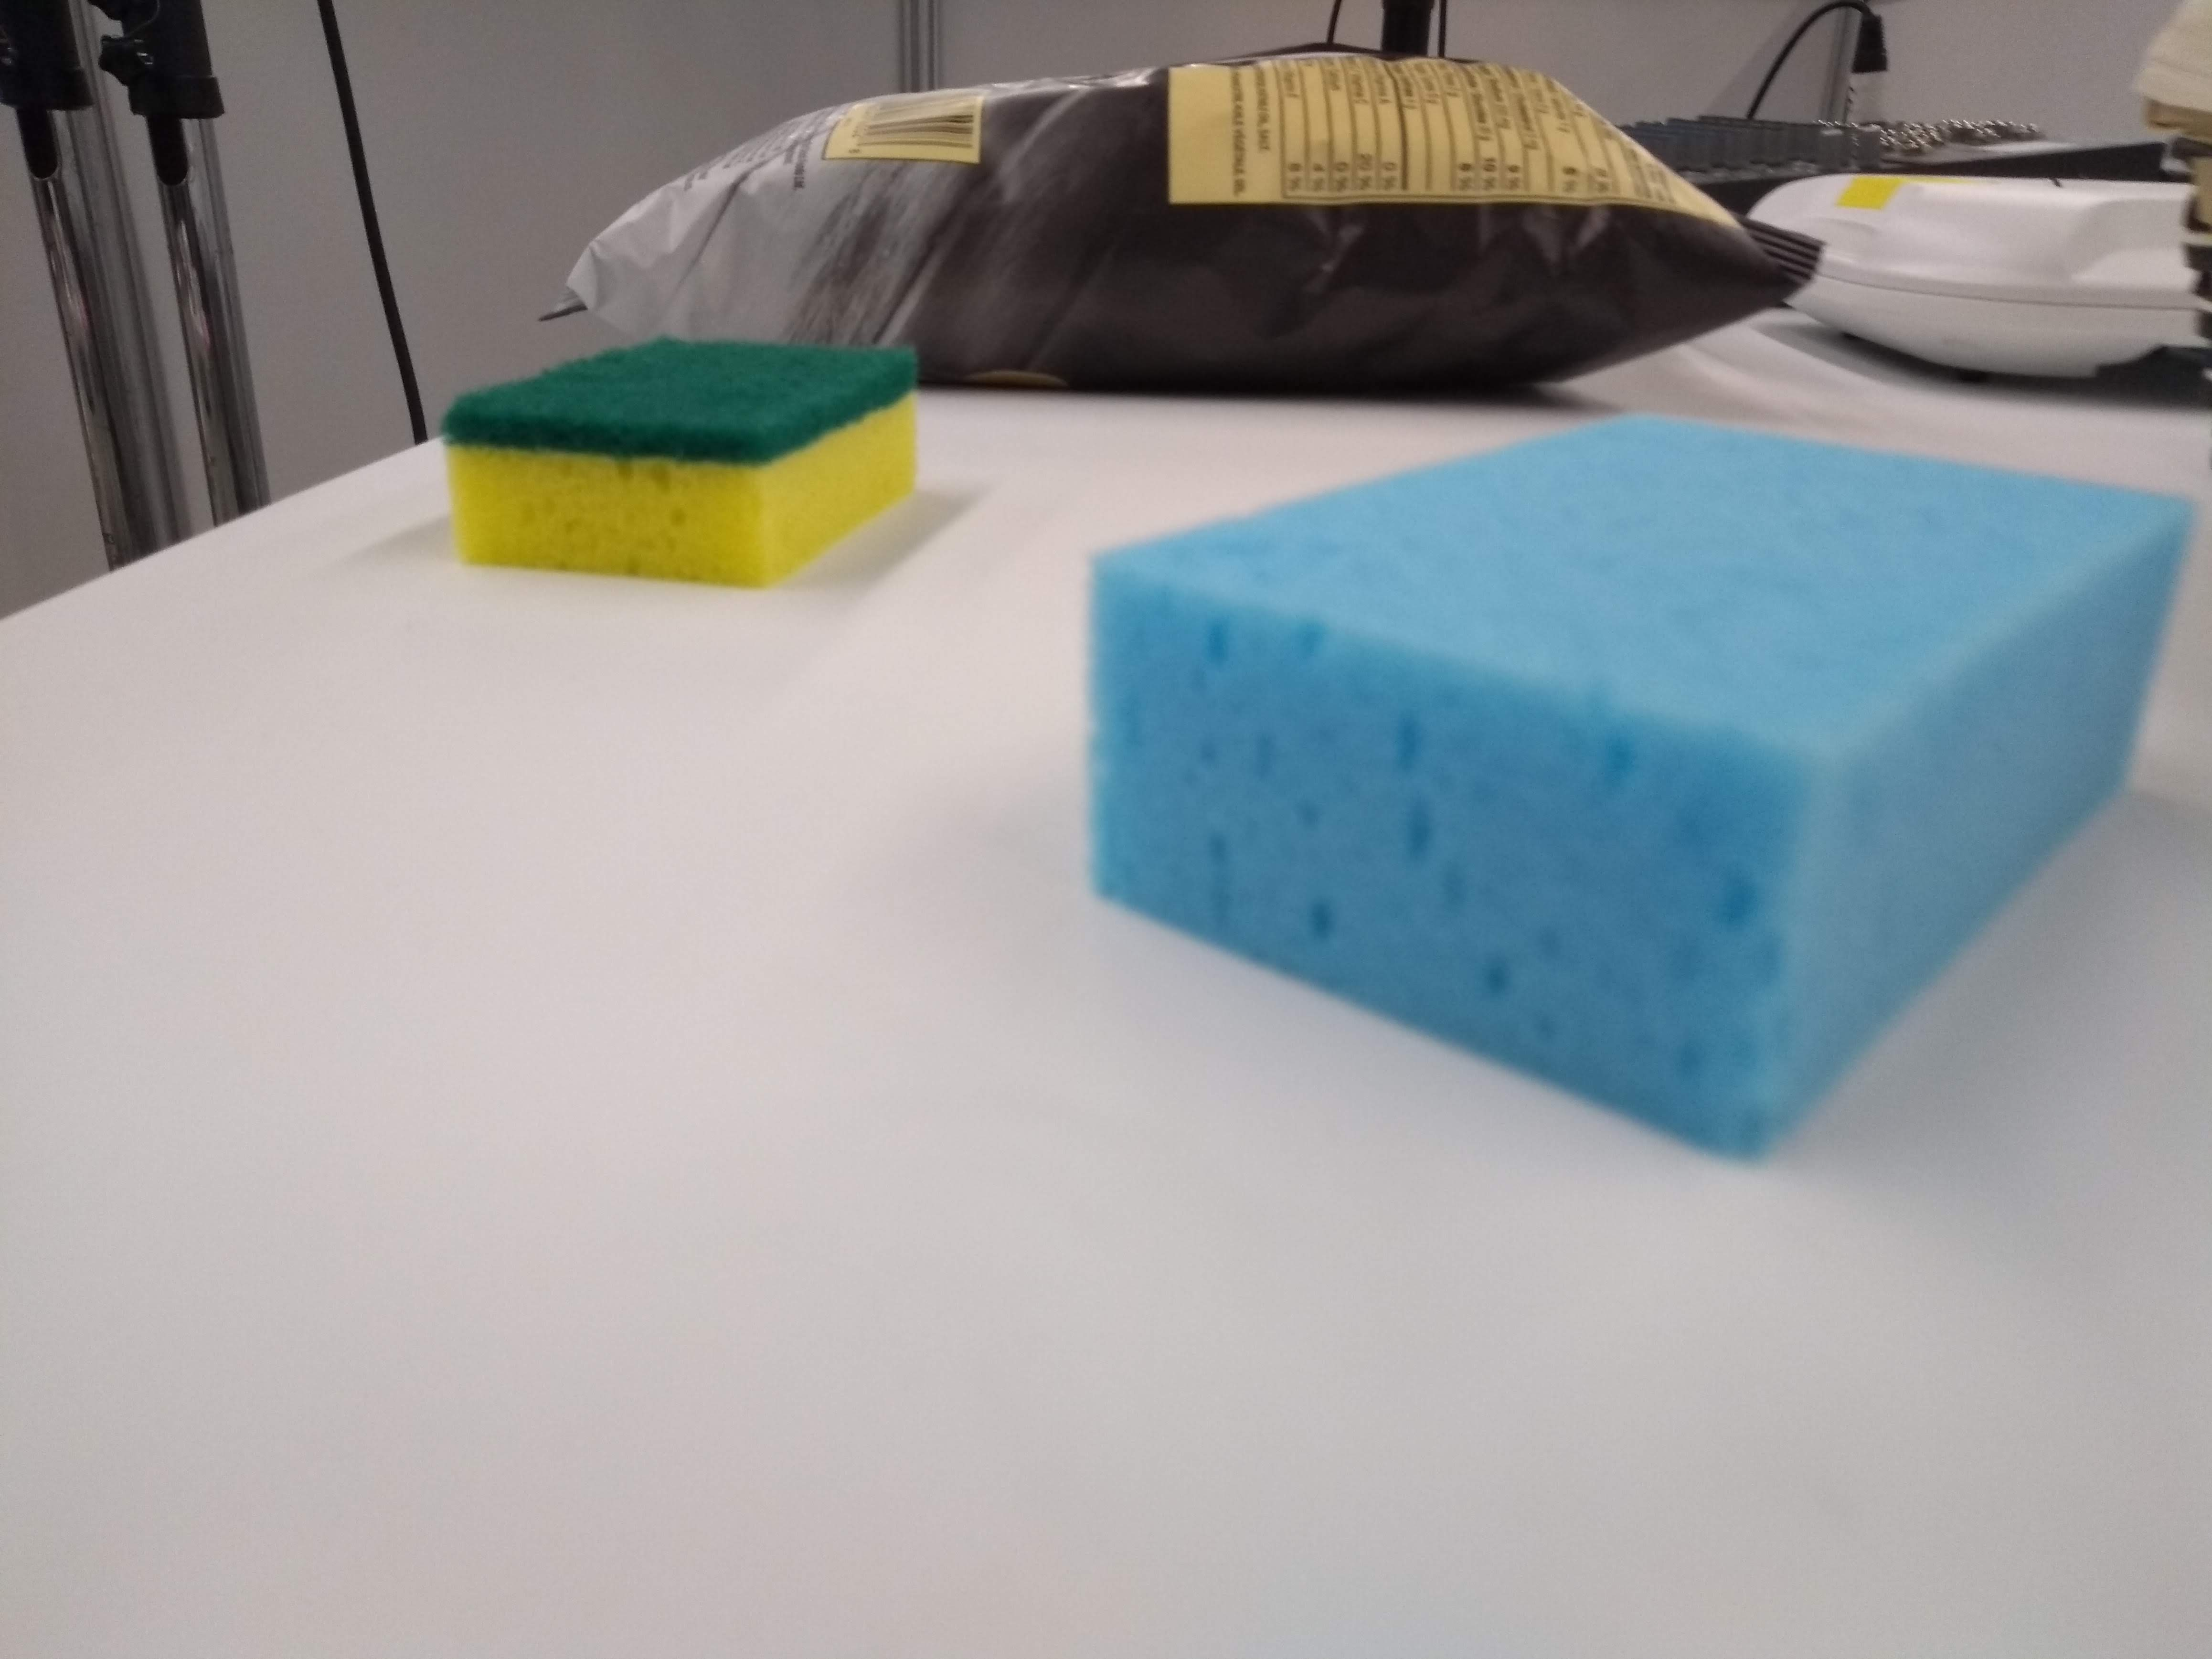potato_chips: (536, 35, 1834, 422)
scrubby: (434, 335, 935, 608)
sponge_opl: (1073, 401, 2205, 1180)
